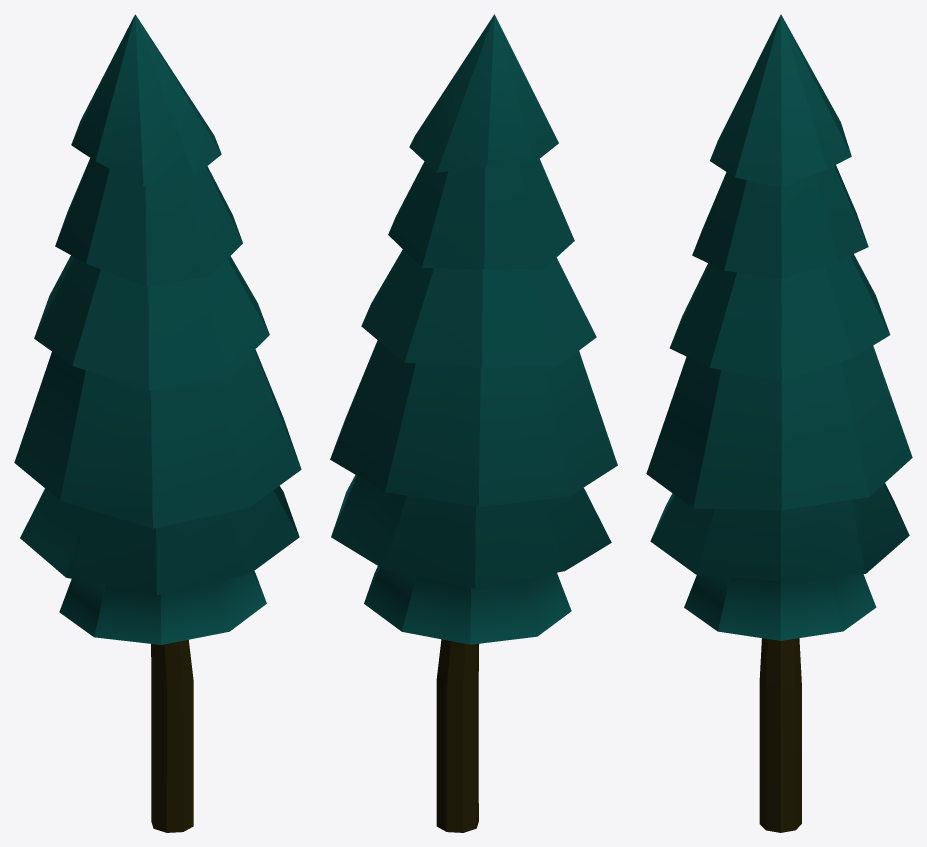
Rendered from masstree.fbx.
The picture shows the model from 3 angles, left to right: view 1: azimuth 30°, elevation 25°; view 2: azimuth 150°, elevation 25°; view 3: azimuth 270°, elevation 25°; orthographic projection. The views are drawn at different scales.
Visible parts, largest first — view 1: polySurface1; view 2: polySurface1; view 3: polySurface1.
Part boxes in pixels (x1,y1,x2,y2): polySurface1: (14,14,301,832); polySurface1: (330,14,617,832); polySurface1: (646,14,912,832).
Size of the model in its own units: 24.26 by 76.57 by 23.33.
